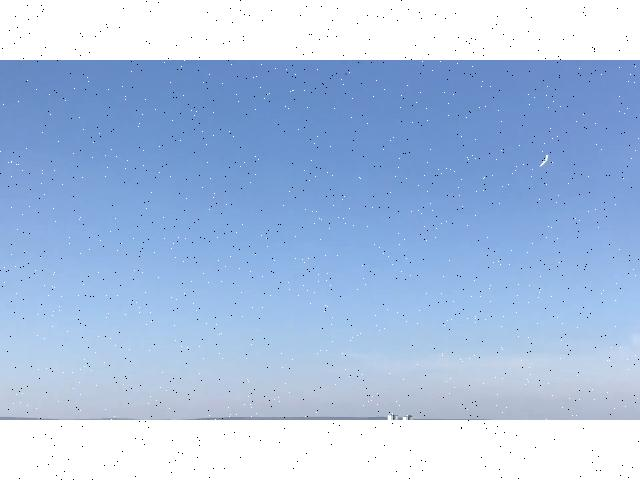Anti-Drone: (532, 148, 566, 172)
